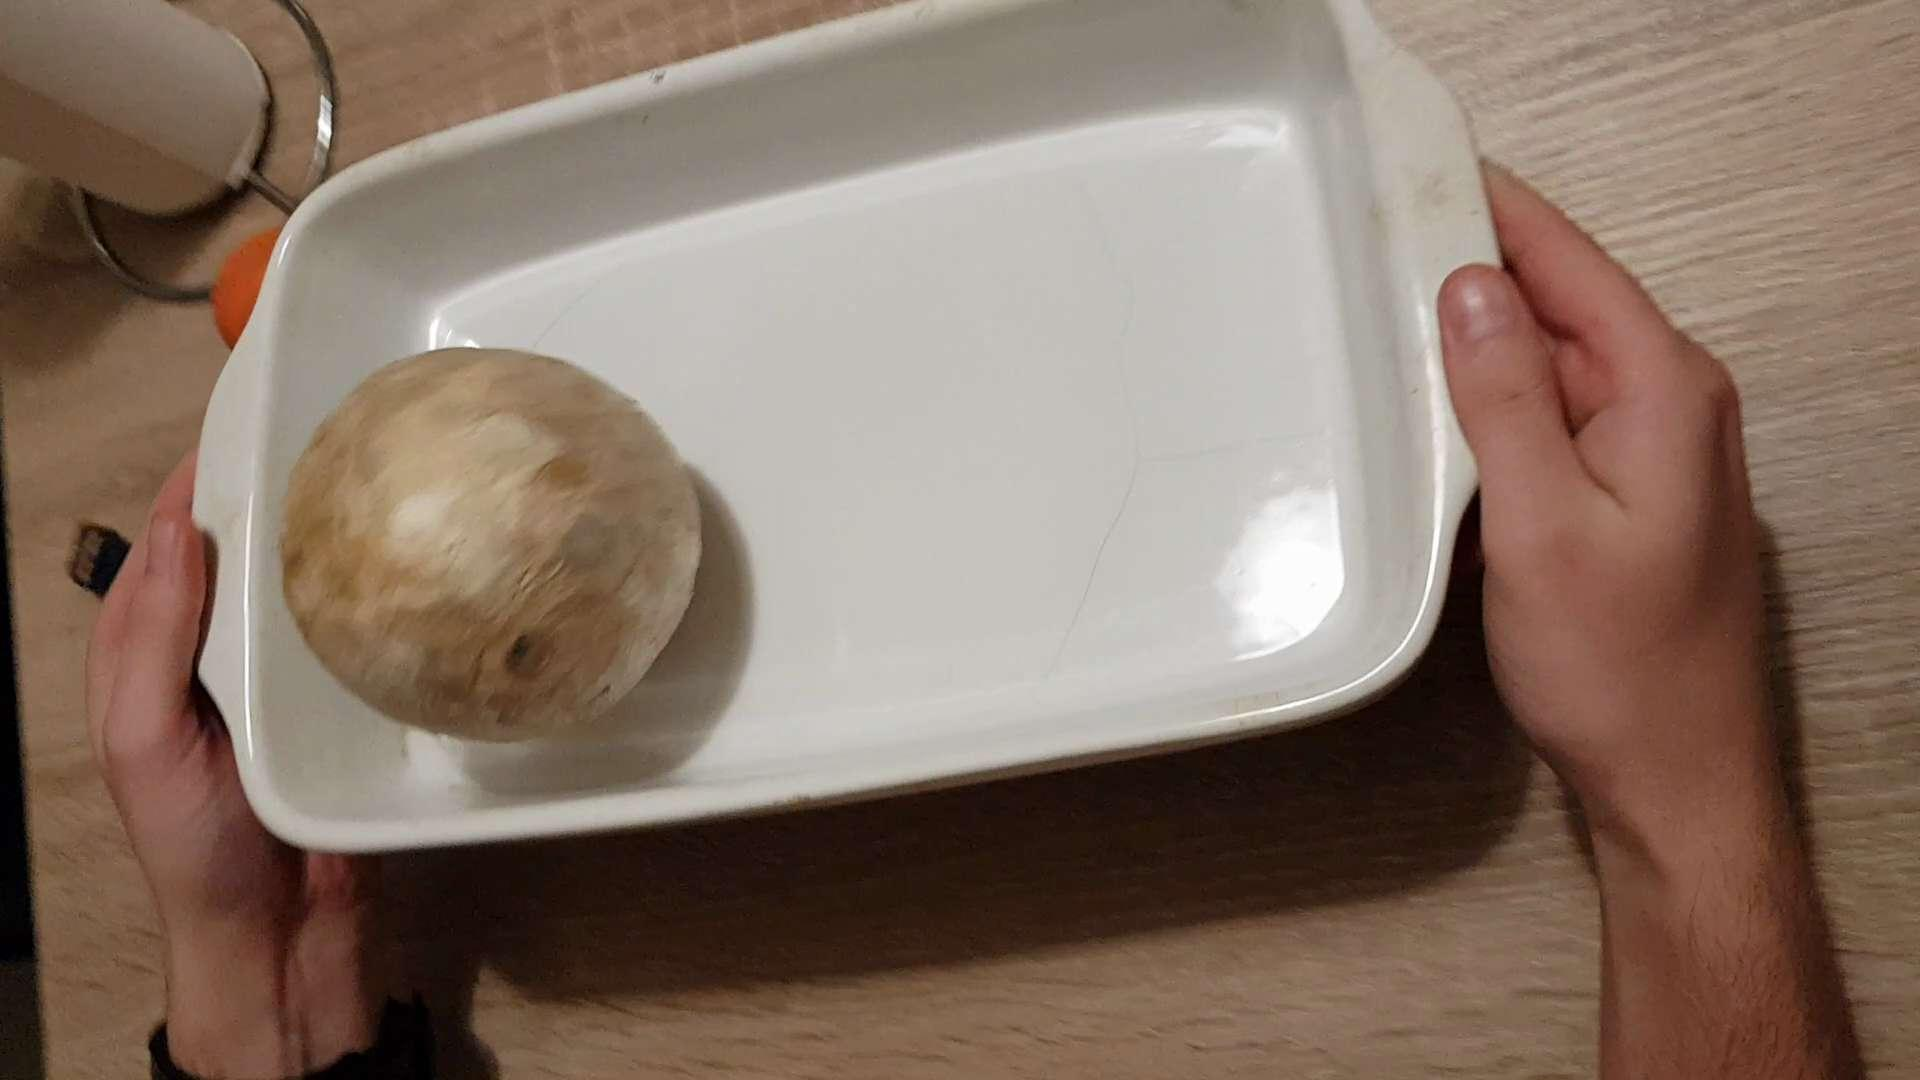sphere: (261, 336, 709, 742)
